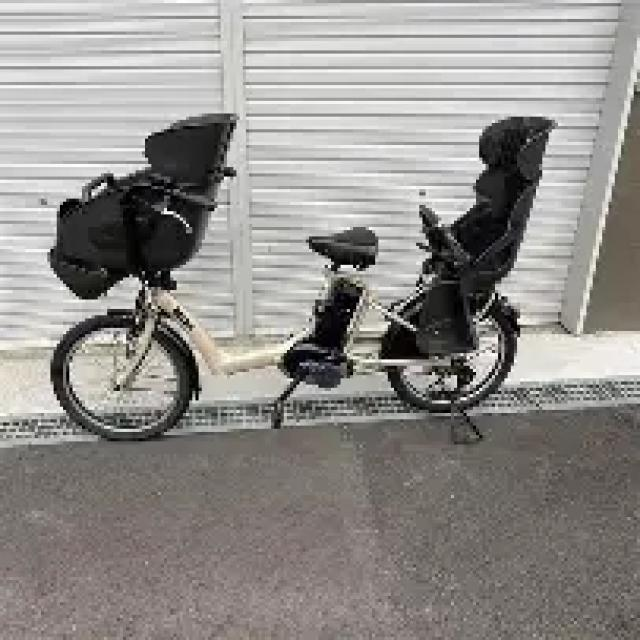battery: (311, 281, 358, 353)
childseat: (410, 113, 559, 353), (52, 110, 235, 298)
